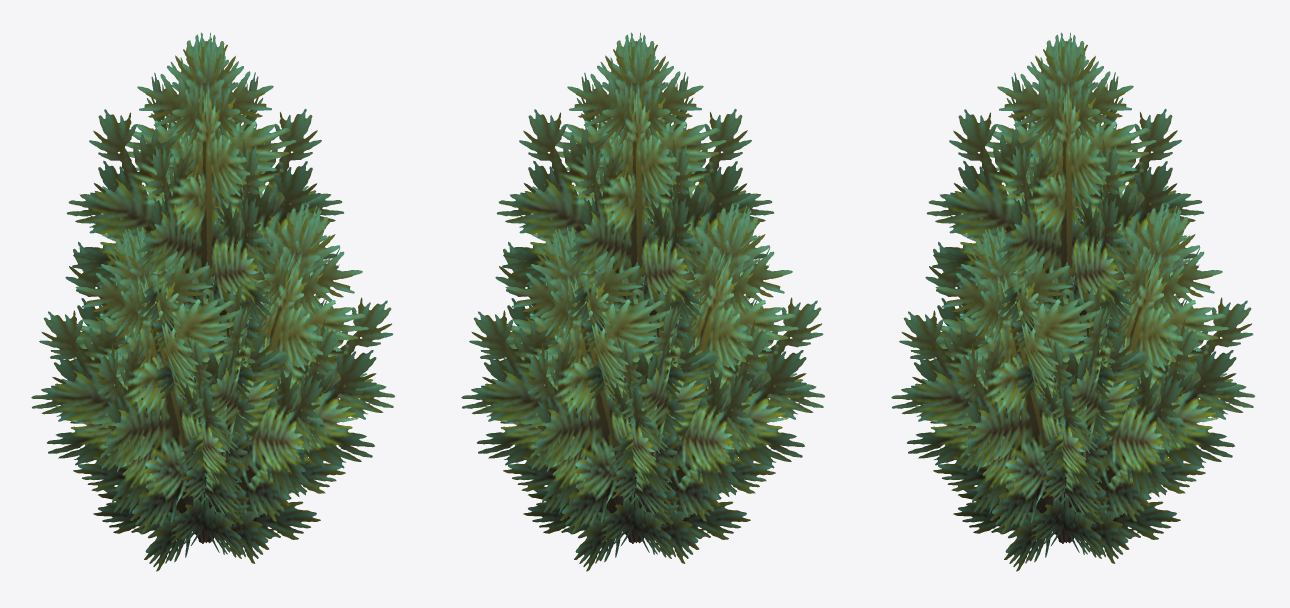
File: painted-pine-big-3.glb
The picture shows the model from 3 angles, left to right: view 1: azimuth 30°, elevation 25°; view 2: azimuth 150°, elevation 25°; view 3: azimuth 270°, elevation 25°; orthographic projection.
Bounding box in the file's own units: 8.97 × 14.46 × 9.78.
1 material, 1 textured.
